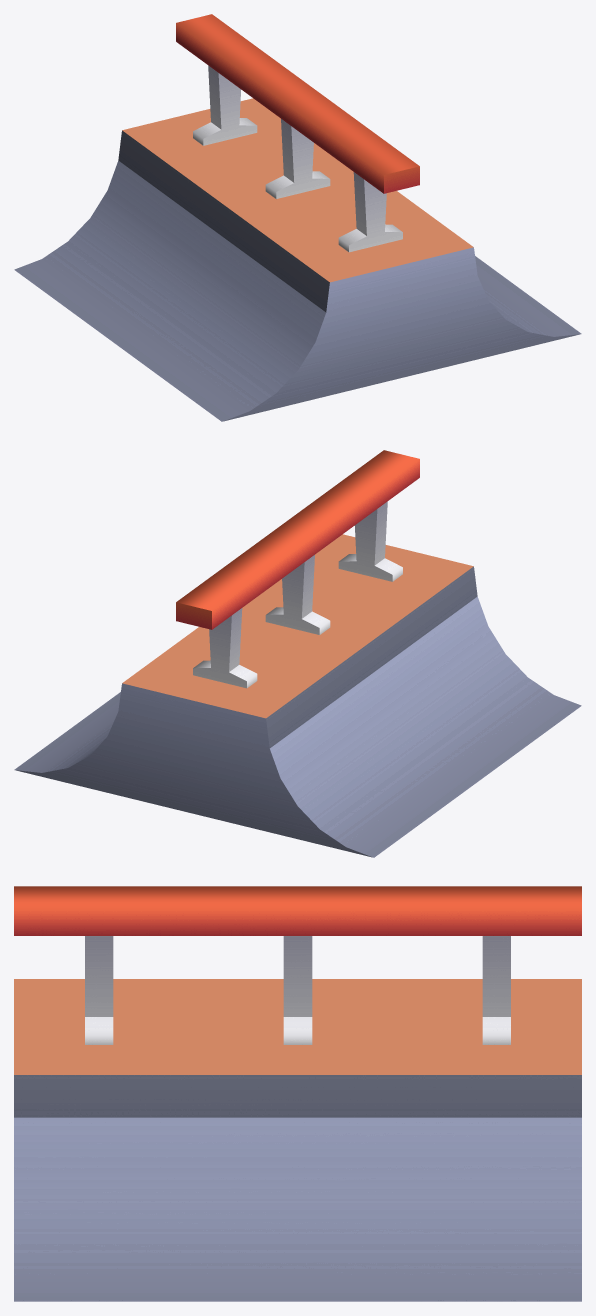
File: skt-obstacle-middle.glb
The picture shows the model from 3 angles, top to bottom: view 1: azimuth 30°, elevation 25°; view 2: azimuth 150°, elevation 25°; view 3: azimuth 270°, elevation 25°; orthographic projection. The views are drawn at different scales.
Parts seen in each view (by area): view 1: obstacle-middle; view 2: obstacle-middle; view 3: obstacle-middle.
Boxes of the visible parts, left/top/right/bottom form: obstacle-middle: left=14, top=14, right=581, bottom=421; obstacle-middle: left=14, top=450, right=581, bottom=857; obstacle-middle: left=14, top=886, right=581, bottom=1301.
Size of the model in its own units: 1 by 0.55 by 1.
Materials: 1 (1 with a texture image).
